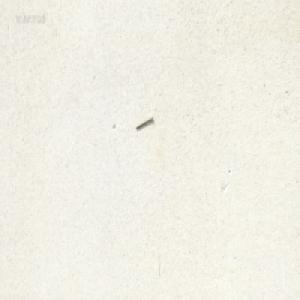Bolt: (134, 115, 152, 129)
